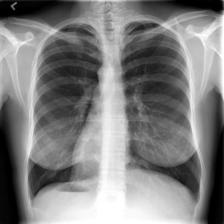normal: (23, 14, 206, 211)
